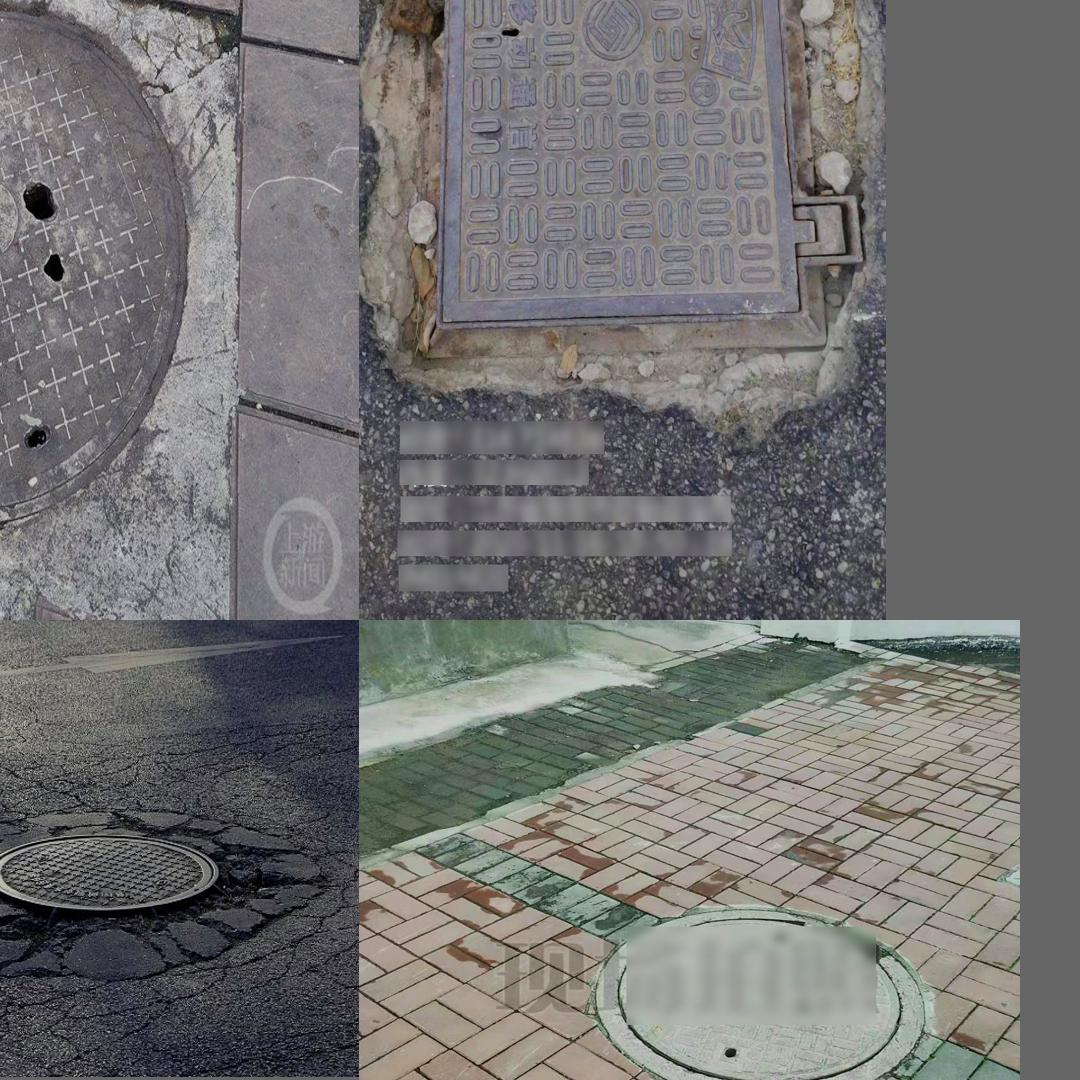circle: (386, 0, 868, 395), (0, 0, 256, 603), (0, 788, 301, 1000), (589, 909, 930, 1080)
